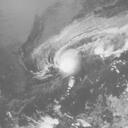cyclone: (55, 49, 81, 75)
